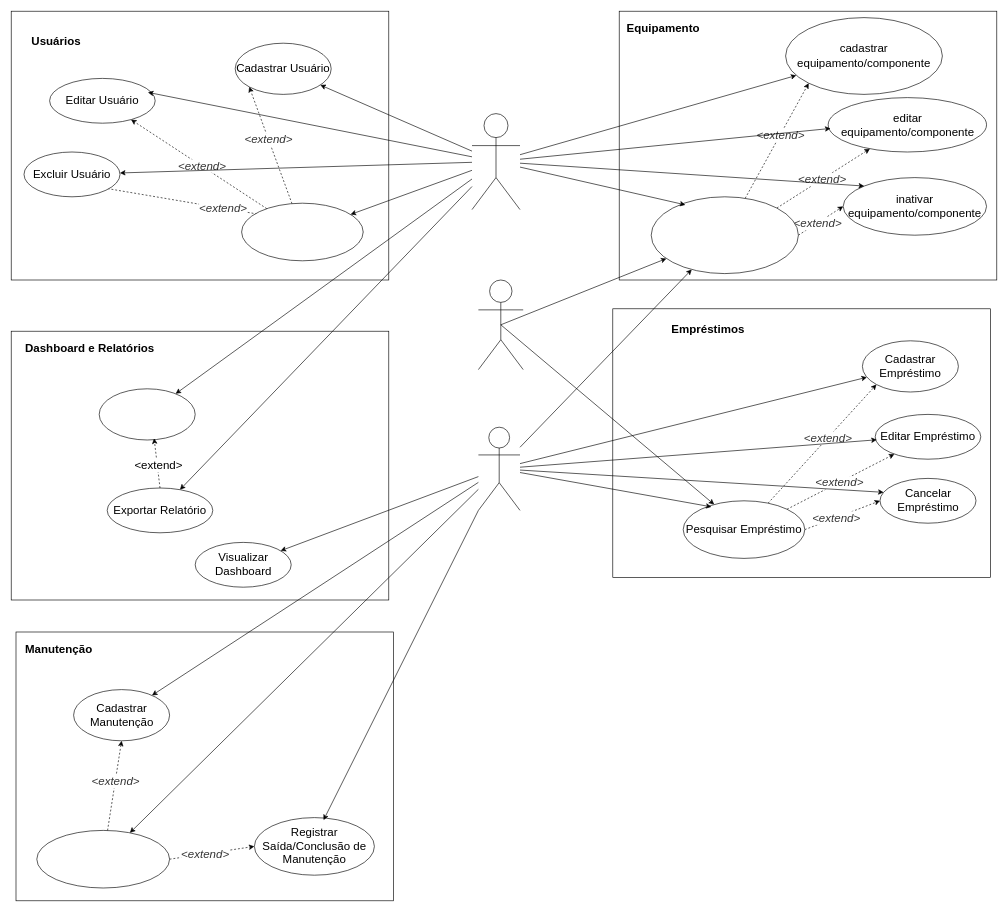
Image size: 1008x912. Some labels were removed from this diagram. Here are the shapes that lost their labels. From the top down, the centre of each, then its label:
At (495,161): "Administrador".
At (302,232): "Pesquisar Usuário".
At (724,235): "pesquisar equipamento/componente".
At (500,324): "Usuário/Aluno".
At (147,414): "Gerar Relatórios".
At (499,468): "Estagiário".
At (103,859): "Pesquisar Manutenção".
